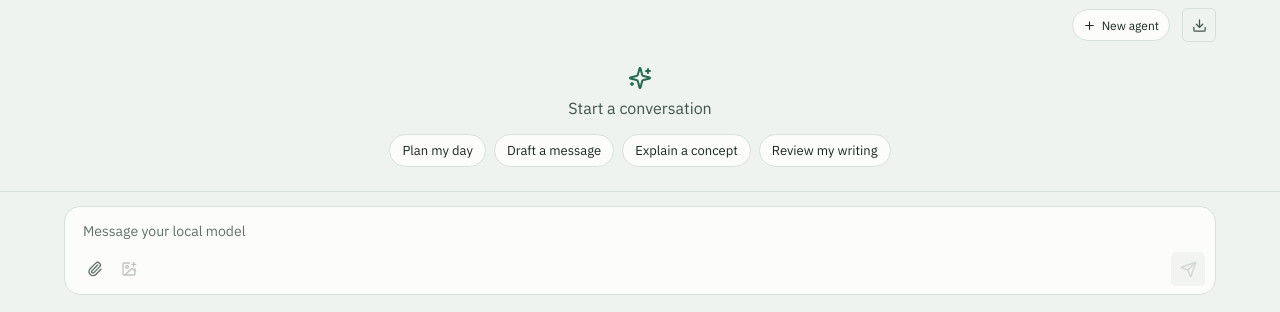
Test: LocalAIChat › image generation › enables the image button only when the draft has a prompt
Expected: the button named "Generate image" is disabled, [113,253,145,285]
Type "A lighthouse" into the text box named "Message local AI".
click(642, 232); type("A lighthouse")  # box [79,217,1205,246]
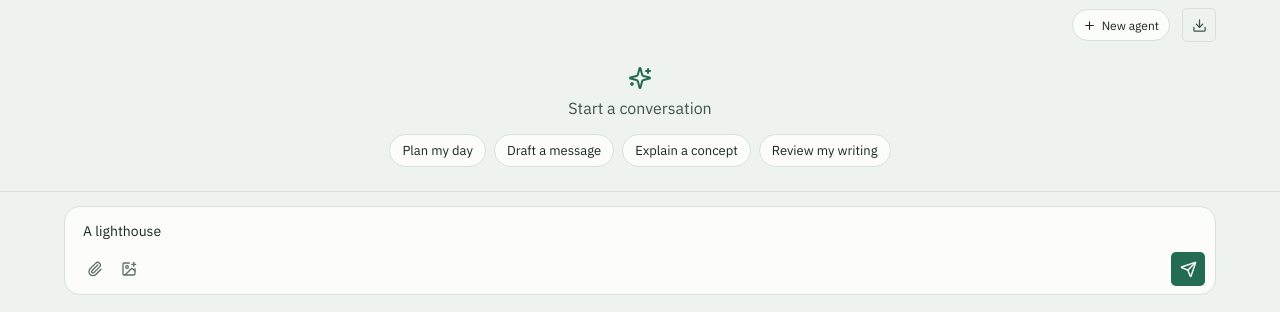
Expected: the button named "Generate image" is enabled, [113,253,145,285]
